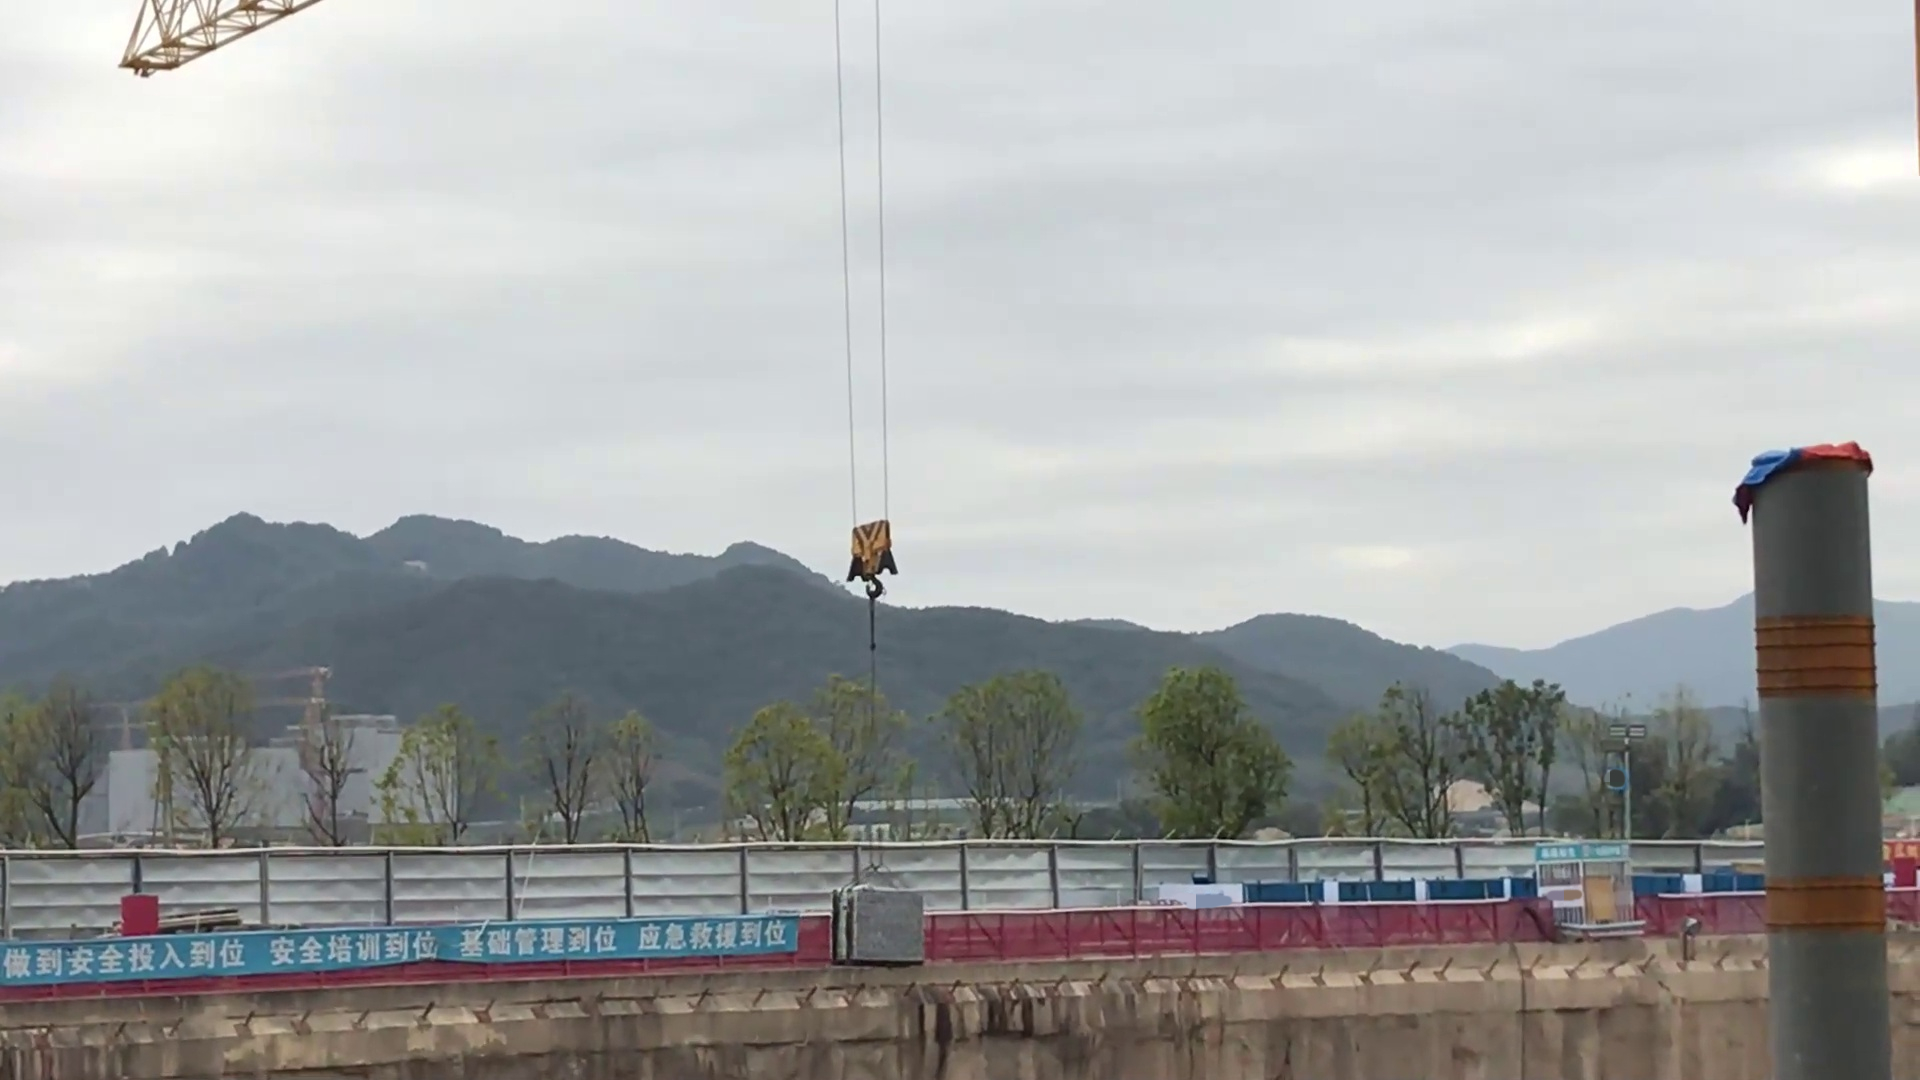fence: (15, 886, 1803, 1007)
hook: (847, 516, 906, 608)
scaffold: (844, 881, 935, 967)
slogan: (11, 916, 803, 986)
